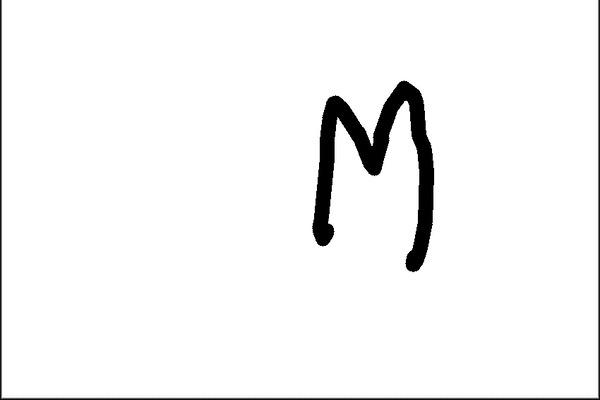M: (308, 81, 434, 273)
